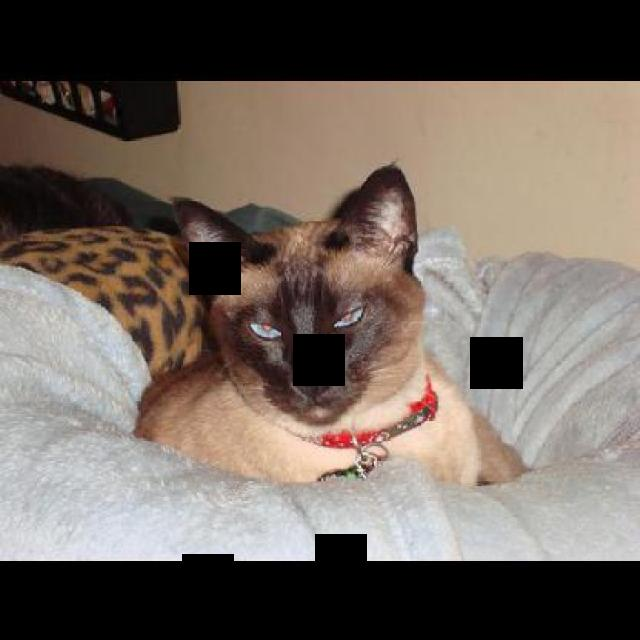unauthorized: (131, 160, 529, 488)
